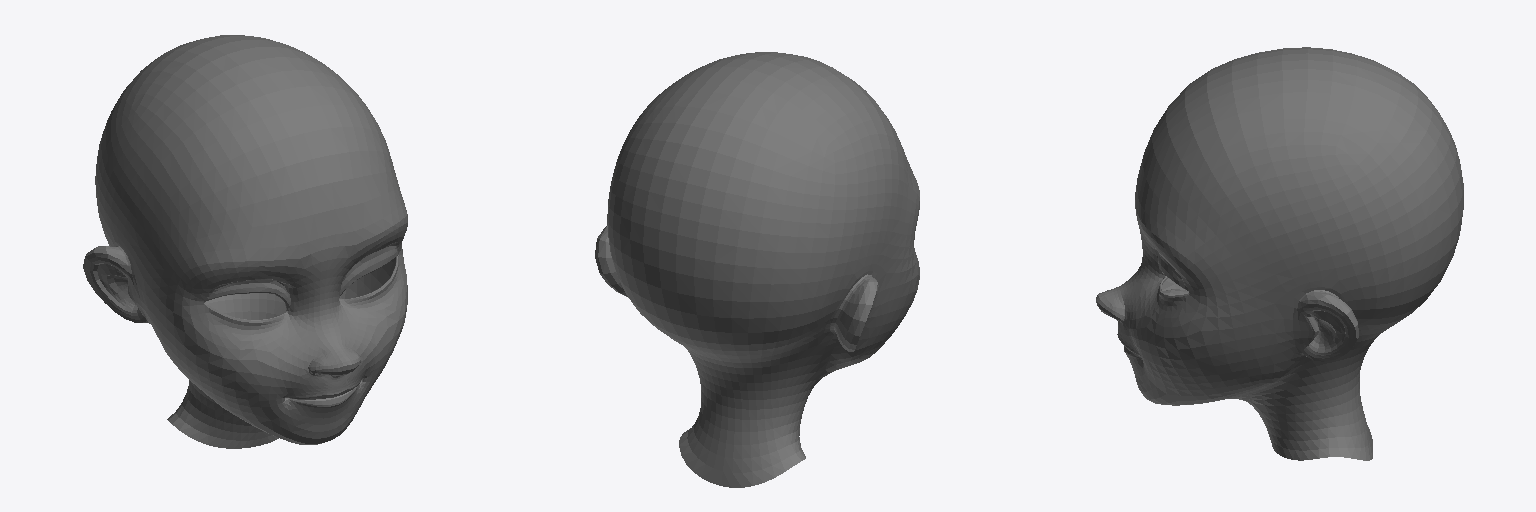
Rendered from pos11.obj.
3 views of the same model, side by side, from view 1: azimuth 30°, elevation 25°; view 2: azimuth 150°, elevation 25°; view 3: azimuth 270°, elevation 25° (orthographic).
Parts seen in each view (by area): view 1: Mesh1; view 2: Mesh1; view 3: Mesh1.
Boxes of the visible parts, box(x1,y1,x2,y2) form: Mesh1: box(83, 35, 407, 448); Mesh1: box(595, 52, 919, 487); Mesh1: box(1096, 47, 1463, 460).
Size of the model in its own units: 23.75 by 32.31 by 27.53.